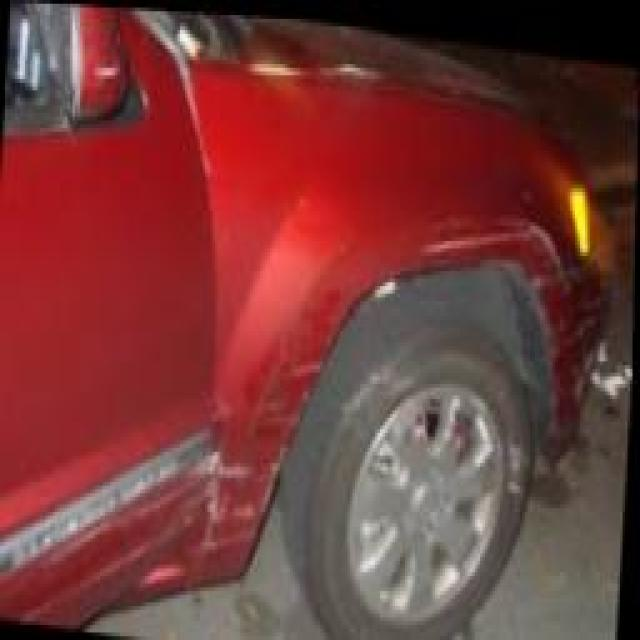Door: (0, 432, 212, 623)
Fender: (199, 204, 610, 580)
